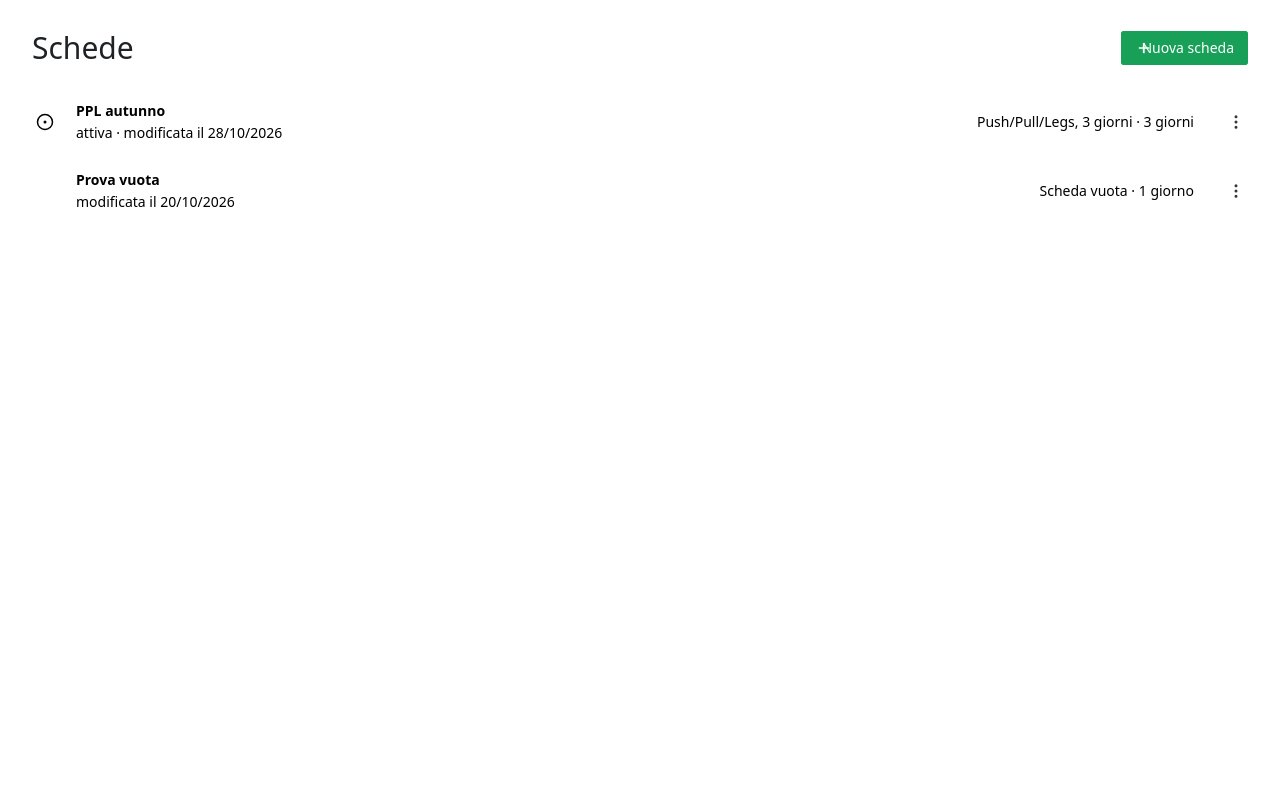
PlansPage (US-19) › se la scheda è cambiata altrove ricarica l’elenco
Click the 2nd button with test id "plan-actions". click: (1227, 191)
box: [1210,174,1244,208]
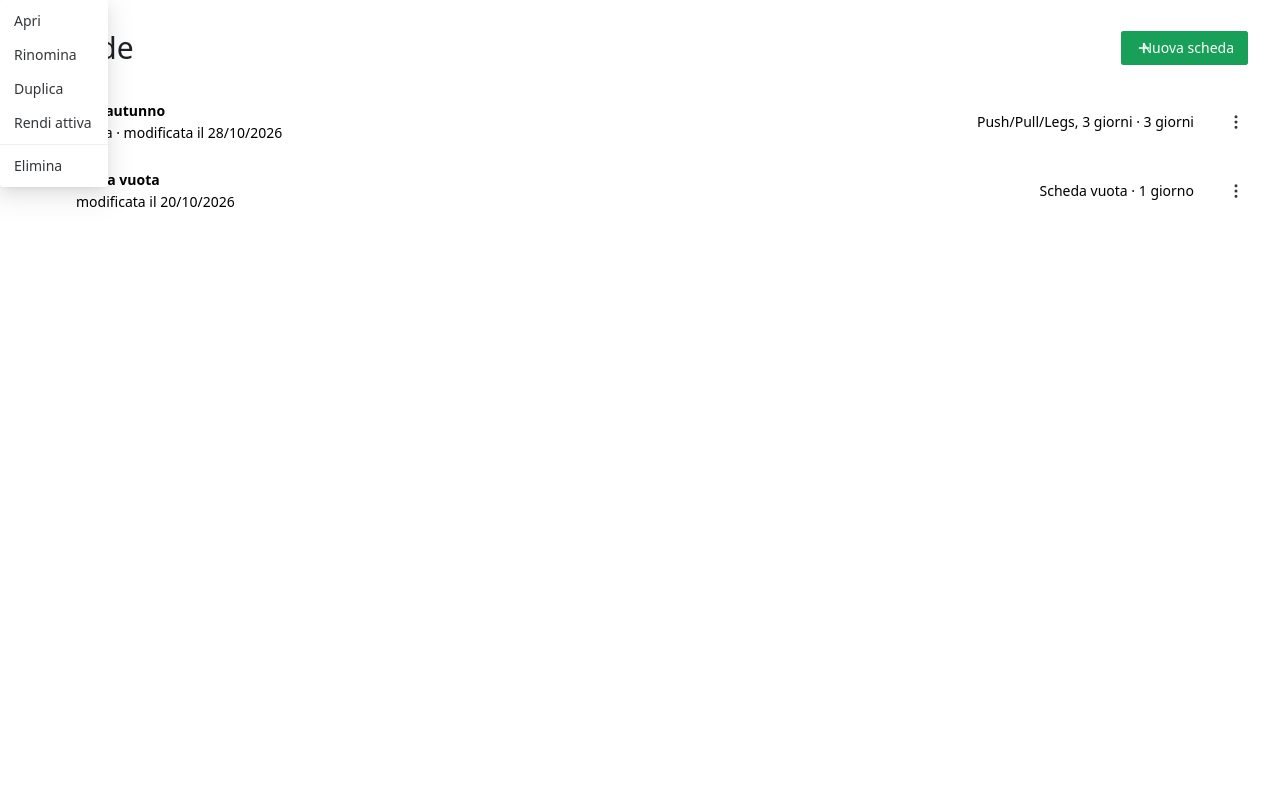
Click the element with class "n-dropdown-option-body" showing "Rinomina". click: (45, 54)
box: [14,45,77,64]
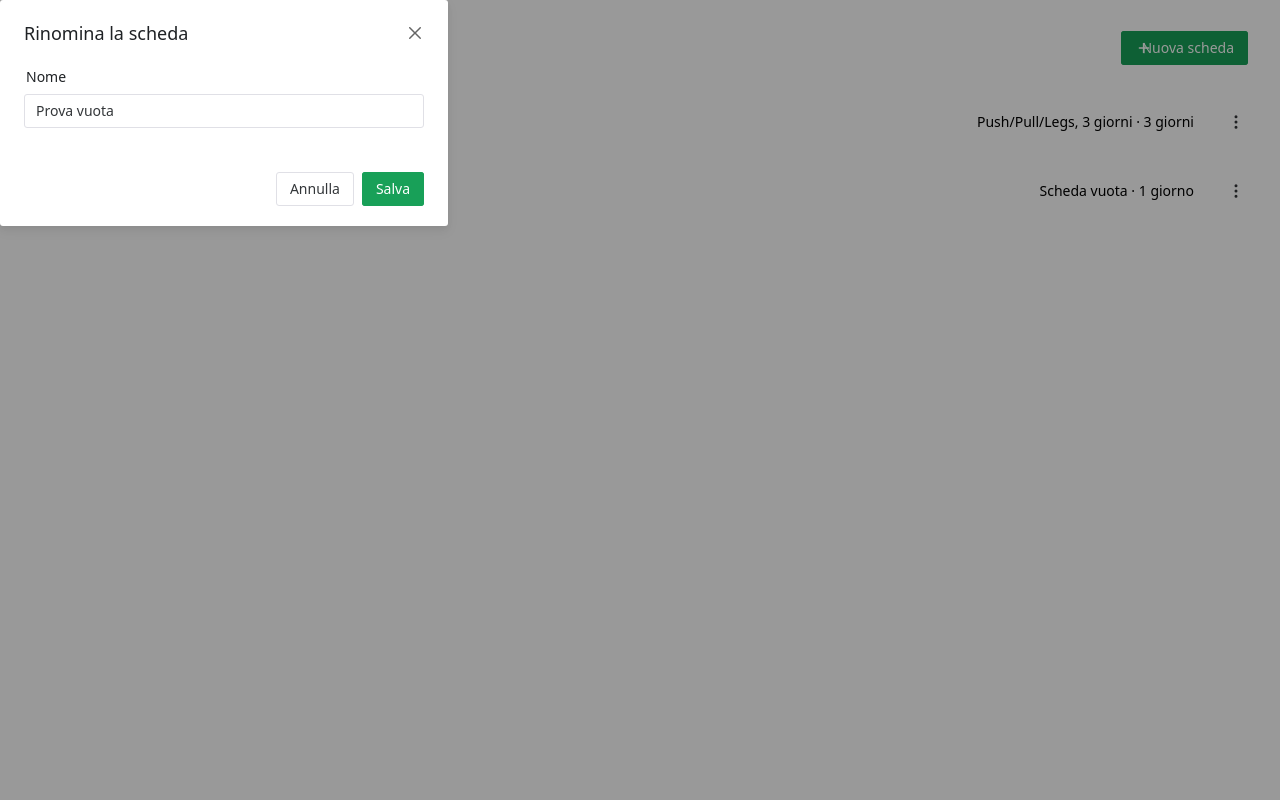
Replace the text in the field with "Altro". click: (224, 111)
box: [36,94,412,128]
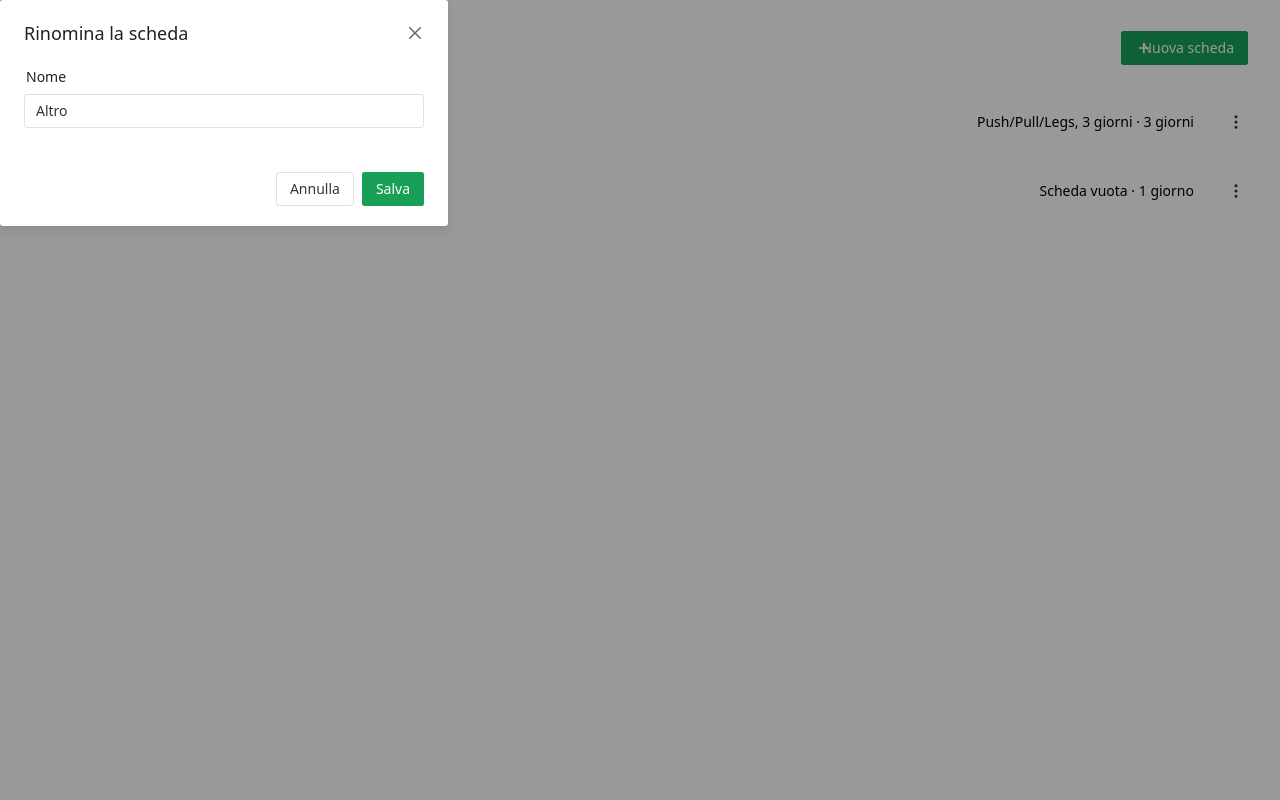
Click the button with test id "rename-save". click: (393, 189)
box: [362,172,424,206]
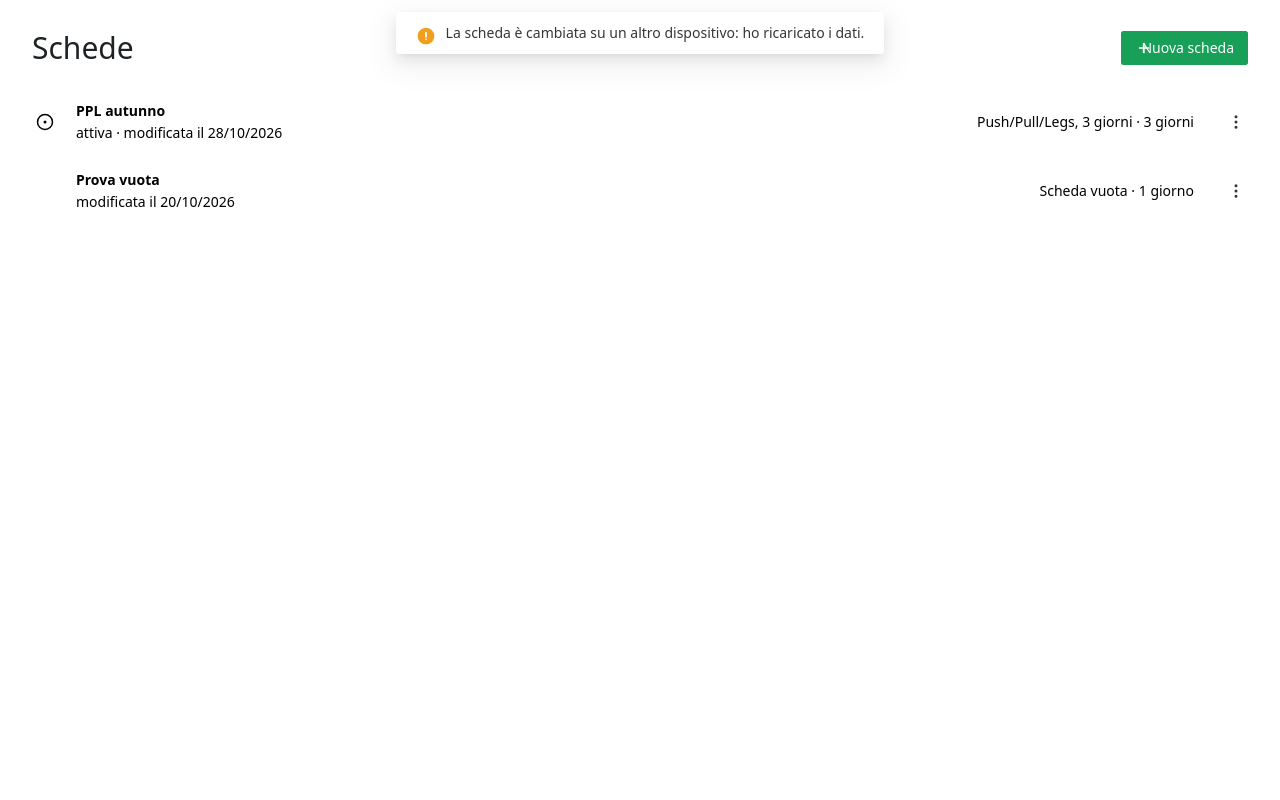
Expected: the text "La scheda è cambiata su un altro dispositivo" is shown, [446,23,864,42]
